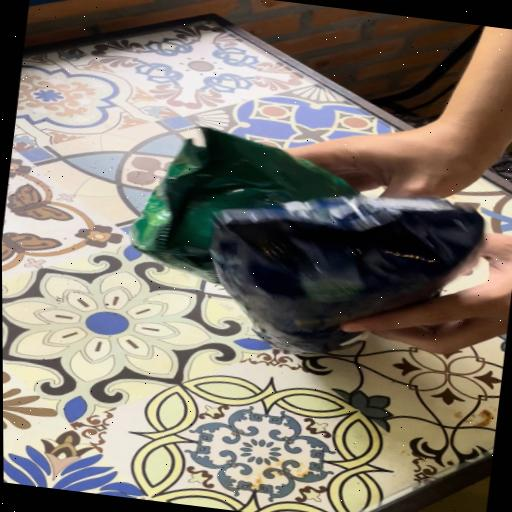cafe_hat: (211, 197, 484, 353)
cafe_xay: (132, 128, 355, 282)
